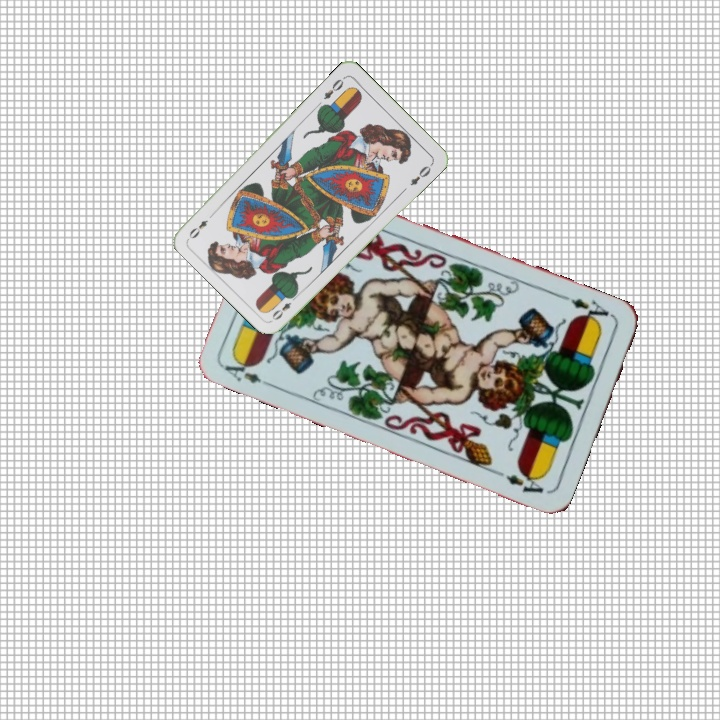EA: (220, 353, 277, 390), (567, 294, 616, 328)
EO: (268, 290, 300, 323), (319, 73, 348, 102)
